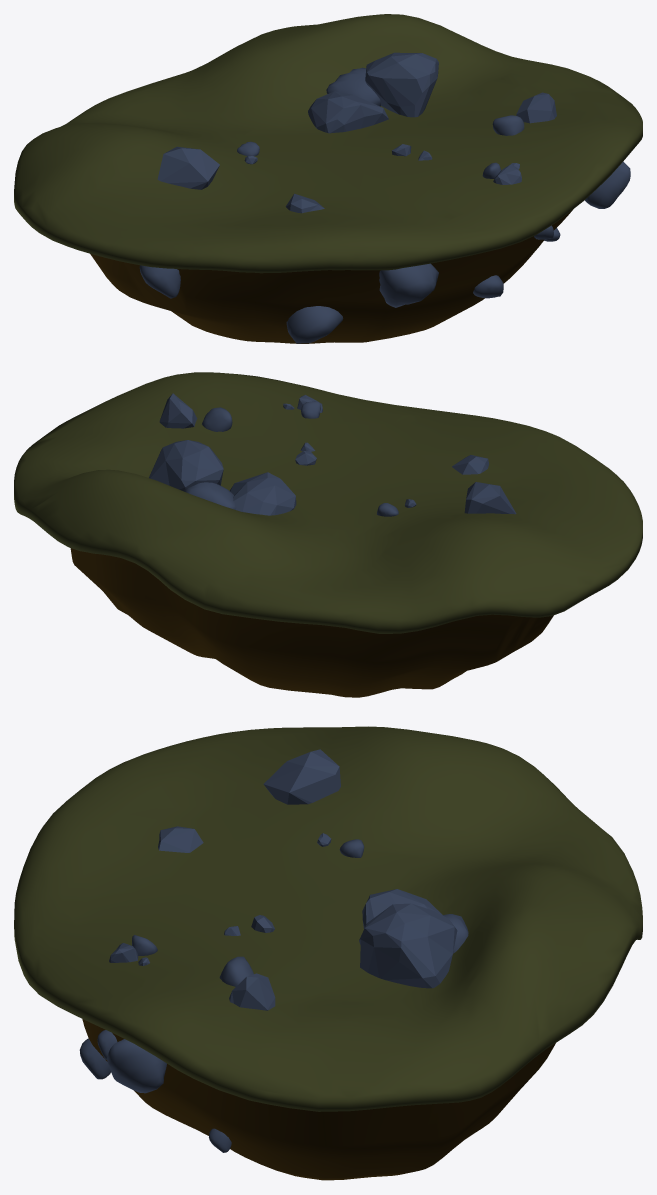
The model's file is Island.fbx.
3 views of the same model, one above another, from view 1: azimuth 30°, elevation 25°; view 2: azimuth 150°, elevation 25°; view 3: azimuth 270°, elevation 25° (orthographic). The views are drawn at different scales.
Parts seen in each view (by area): view 1: Island; view 2: Island; view 3: Island.
Part boxes in pixels (x1,y1,x2,y2): Island: (14,14,642,343); Island: (14,372,642,697); Island: (14,726,642,1180).
Size of the model in its own units: 1810 by 590 by 1346.
